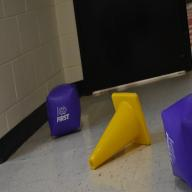cone: (89, 92, 151, 170)
cube: (160, 92, 192, 189), (46, 83, 82, 137)
